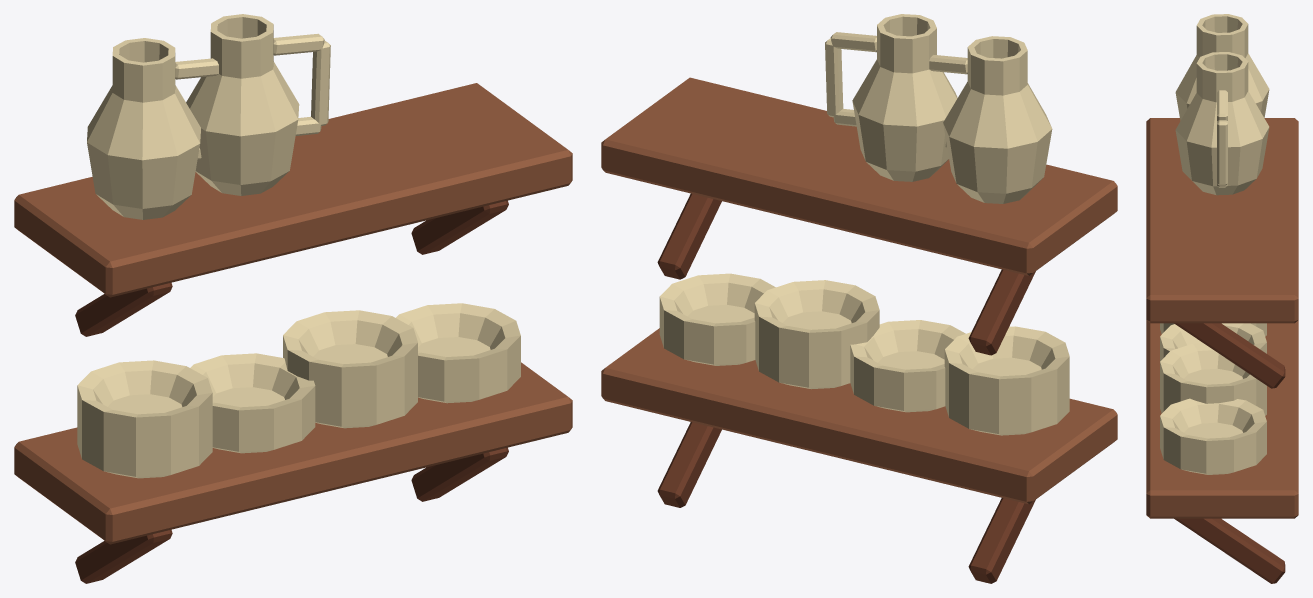
Rendered from bottle_rack.glb.
The picture shows the model from 3 angles, left to right: view 1: azimuth 30°, elevation 25°; view 2: azimuth 150°, elevation 25°; view 3: azimuth 270°, elevation 25°; orthographic projection. The views are drawn at different scales.
Parts seen in each view (by area): view 1: Shelf_001, Shelf, Jug_Body, Jug_Body_001, Bowl_Dish_002, Bowl_Dish_007, Bowl_Dish_009, Bowl_Dish_004, Bowl_Dish, Bowl_Dish_001, Bowl_Dish_003, Bowl_Dish_008 (+9 smaller); view 2: Shelf_001, Shelf, Jug_Body, Jug_Body_001, Bowl_Dish_007, Bowl_Dish_002, Bowl_Dish_009, Bowl_Dish_004, Bowl_Dish, Bracket_002, Bracket, Bracket_001 (+9 smaller); view 3: Shelf_001, Shelf, Jug_Body_001, Bowl_Dish_009, Bowl_Dish_007, Jug_Body, Bracket_001, Bracket_003, Bowl_Dish_008, Bowl_Dish_004, Jug_Handle_004, Bowl_Dish_006 (+1 smaller).
Part boxes in pixels (bbox=[...]): Shelf_001: bbox=[14, 83, 572, 297]; Shelf: bbox=[14, 362, 572, 544]; Jug_Body: bbox=[87, 38, 200, 219]; Jug_Body_001: bbox=[186, 14, 299, 195]; Bowl_Dish_002: bbox=[77, 360, 212, 440]; Bowl_Dish_007: bbox=[283, 310, 417, 389]; Bowl_Dish_009: bbox=[396, 303, 520, 383]; Bowl_Dish_004: bbox=[190, 353, 315, 432]; Bowl_Dish: bbox=[77, 421, 212, 478]; Bowl_Dish_001: bbox=[77, 403, 212, 457]; Bowl_Dish_003: bbox=[212, 404, 315, 453]; Bowl_Dish_008: bbox=[418, 354, 520, 403]; Shelf_001: bbox=[601, 77, 1117, 275]; Shelf: bbox=[601, 328, 1117, 504]; Jug_Body: bbox=[943, 36, 1052, 203]; Jug_Body_001: bbox=[852, 14, 957, 181]; Bowl_Dish_007: bbox=[754, 280, 879, 354]; Bowl_Dish_002: bbox=[944, 326, 1069, 400]; Bowl_Dish_009: bbox=[659, 273, 775, 344]; Bowl_Dish_004: bbox=[850, 320, 965, 394]; Bowl_Dish: bbox=[945, 385, 1069, 435]; Bracket_002: bbox=[968, 269, 1035, 355]; Bracket: bbox=[968, 498, 1035, 583]; Bracket_001: bbox=[657, 422, 721, 507]; Shelf_001: bbox=[1146, 118, 1298, 323]; Shelf: bbox=[1146, 320, 1298, 518]; Jug_Body_001: bbox=[1175, 52, 1269, 195]; Bowl_Dish_009: bbox=[1160, 398, 1266, 459]; Bowl_Dish_007: bbox=[1160, 343, 1264, 401]; Jug_Body: bbox=[1175, 14, 1269, 120]; Bracket_001: bbox=[1174, 518, 1285, 583]; Bracket_003: bbox=[1174, 323, 1285, 388]; Bowl_Dish_008: bbox=[1160, 430, 1266, 474]; Bowl_Dish_004: bbox=[1160, 323, 1266, 358]; Jug_Handle_004: bbox=[1217, 120, 1227, 185]; Bowl_Dish_006: bbox=[1160, 376, 1266, 407].
Bounding box in the file's own units: 0.95 × 1.07 × 0.34.
